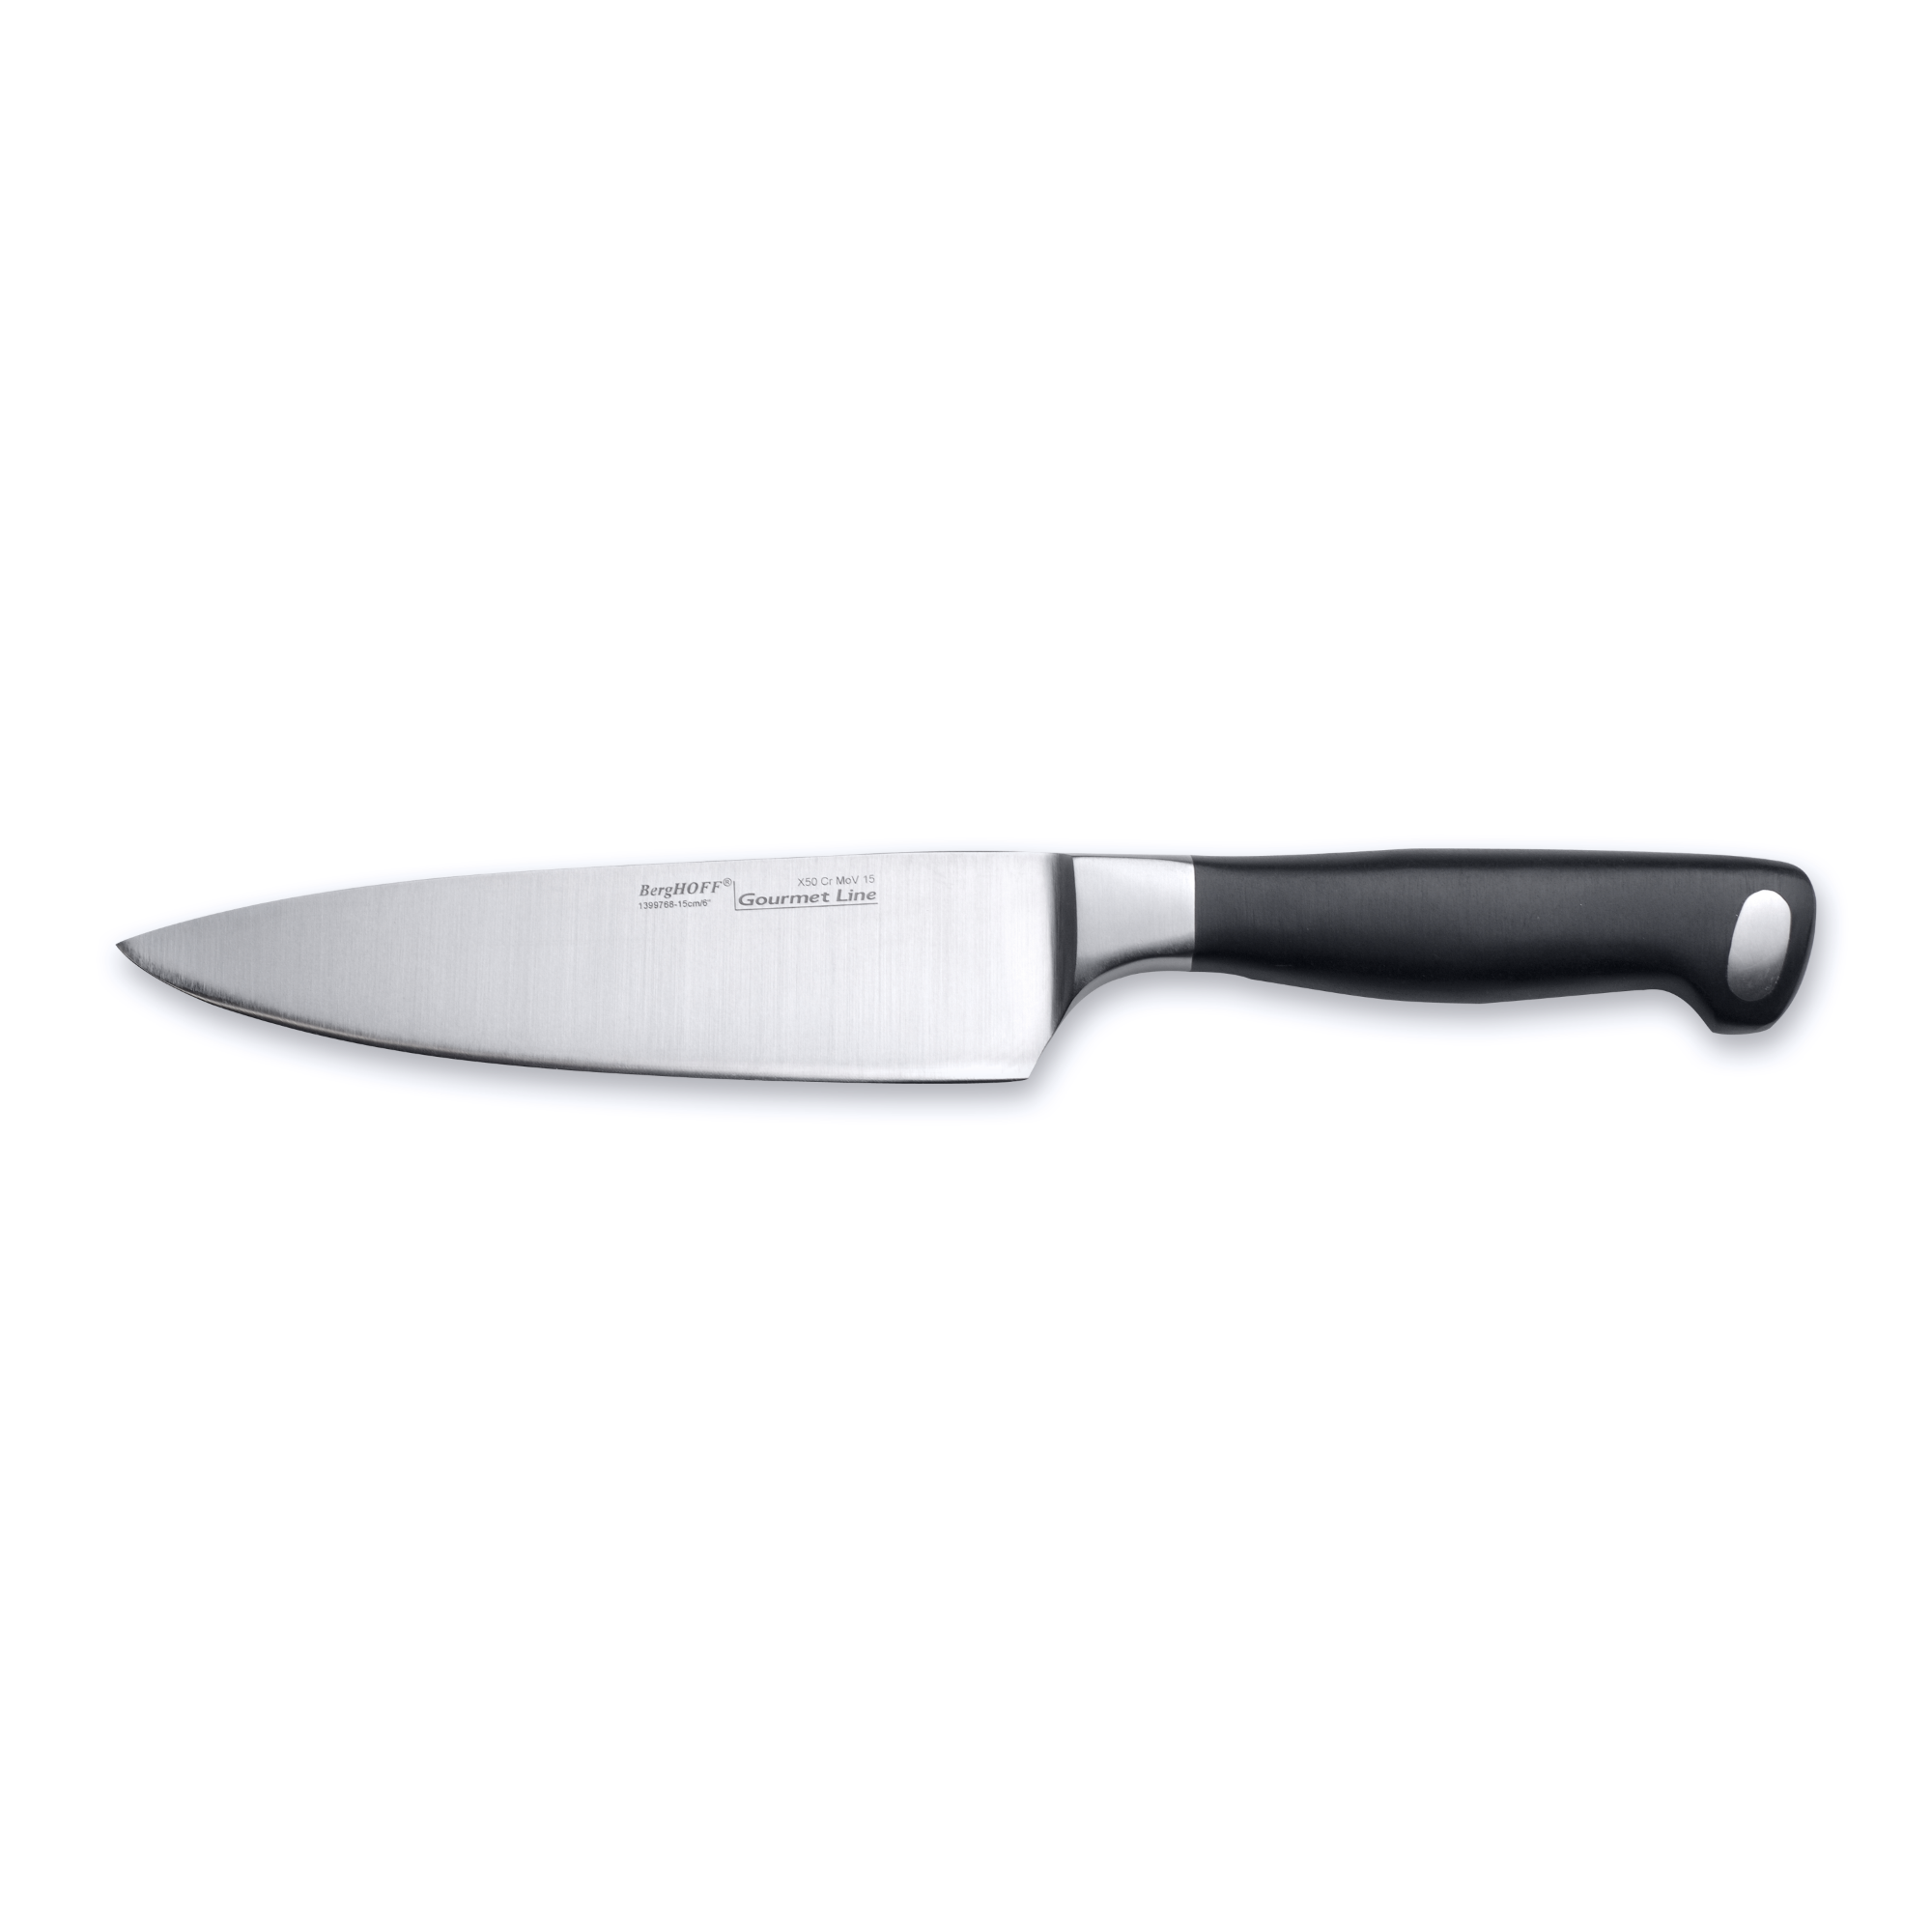knife: (119, 846, 1815, 1088)
